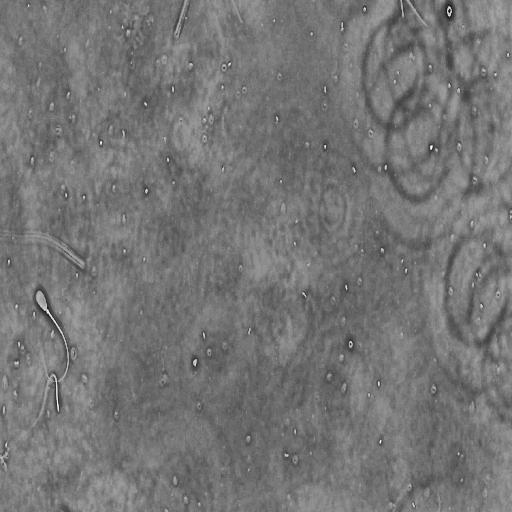dirt-particles: (445, 3, 454, 20)
loose-tail: (9, 371, 62, 454)
normal: (33, 282, 72, 385)
proximal-droplet: (45, 308, 49, 314)
